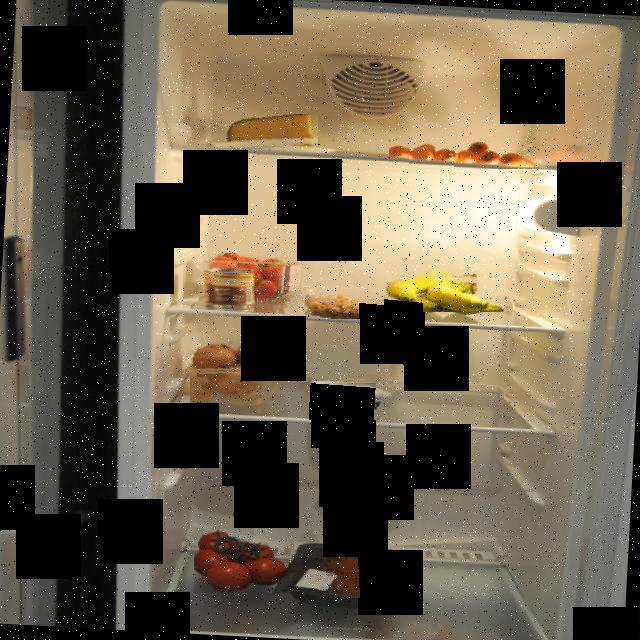banana: (384, 268, 506, 312)
beef: (311, 550, 382, 598)
carrot: (390, 133, 550, 169)
cheese: (225, 114, 318, 152)
corn: (200, 270, 257, 312)
goat_cheese: (309, 376, 394, 420)
onion: (190, 341, 278, 404)
shrimp: (304, 288, 398, 320)
strawberries: (200, 253, 302, 305)
tomato: (194, 527, 295, 593)
